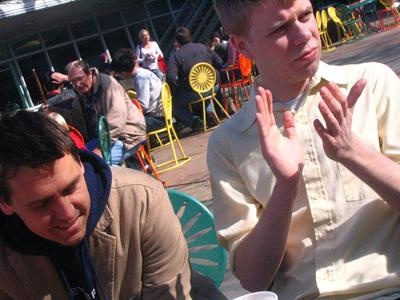person without safety: (1, 107, 194, 300)
